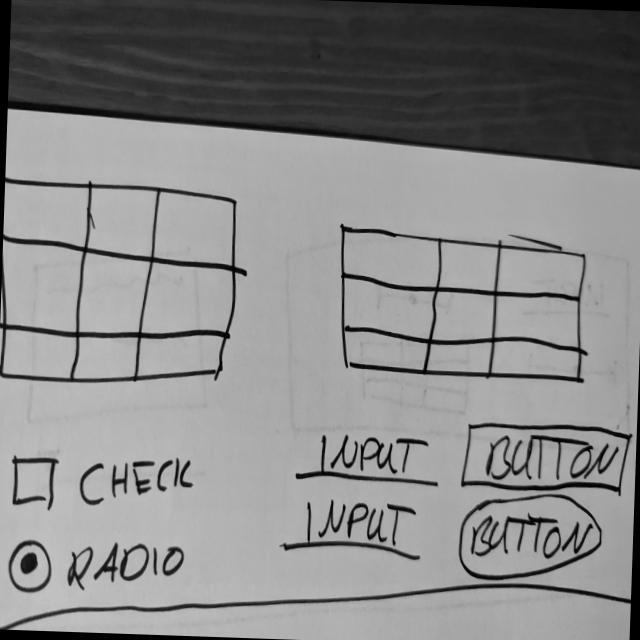button: (457, 489, 606, 586), (460, 420, 635, 499)
checkbox: (10, 446, 202, 519)
input: (280, 496, 429, 565), (293, 427, 442, 492)
radio: (5, 537, 189, 601)
table: (1, 172, 243, 392), (332, 221, 590, 390)
